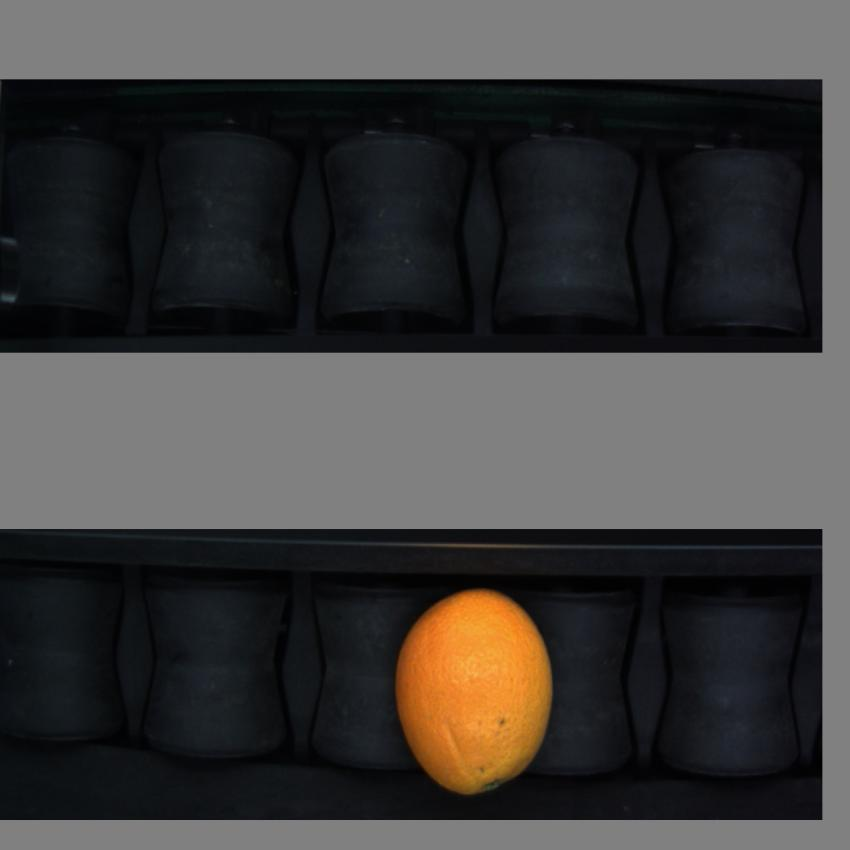Buen estado: (392, 586, 565, 805)
